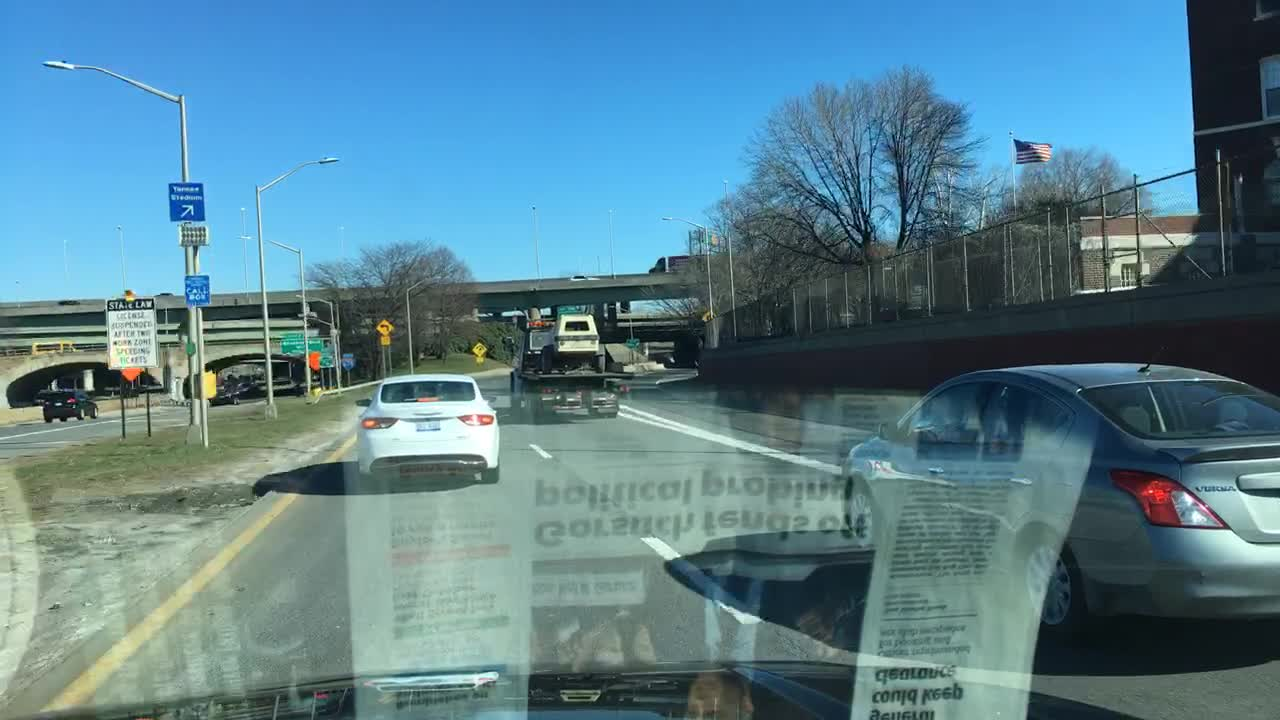car: (838, 345, 1278, 638), (353, 374, 499, 484), (538, 313, 605, 372), (41, 390, 99, 423), (207, 378, 261, 404), (256, 374, 296, 396), (29, 387, 47, 404), (659, 350, 676, 366)
traffic sign: (106, 292, 157, 368), (167, 182, 205, 220), (278, 332, 321, 354), (184, 274, 211, 307), (689, 229, 720, 250), (306, 345, 331, 370), (374, 318, 392, 345), (554, 304, 581, 318), (471, 339, 484, 361), (340, 352, 353, 371), (624, 336, 639, 348)
truck: (509, 316, 634, 421)
